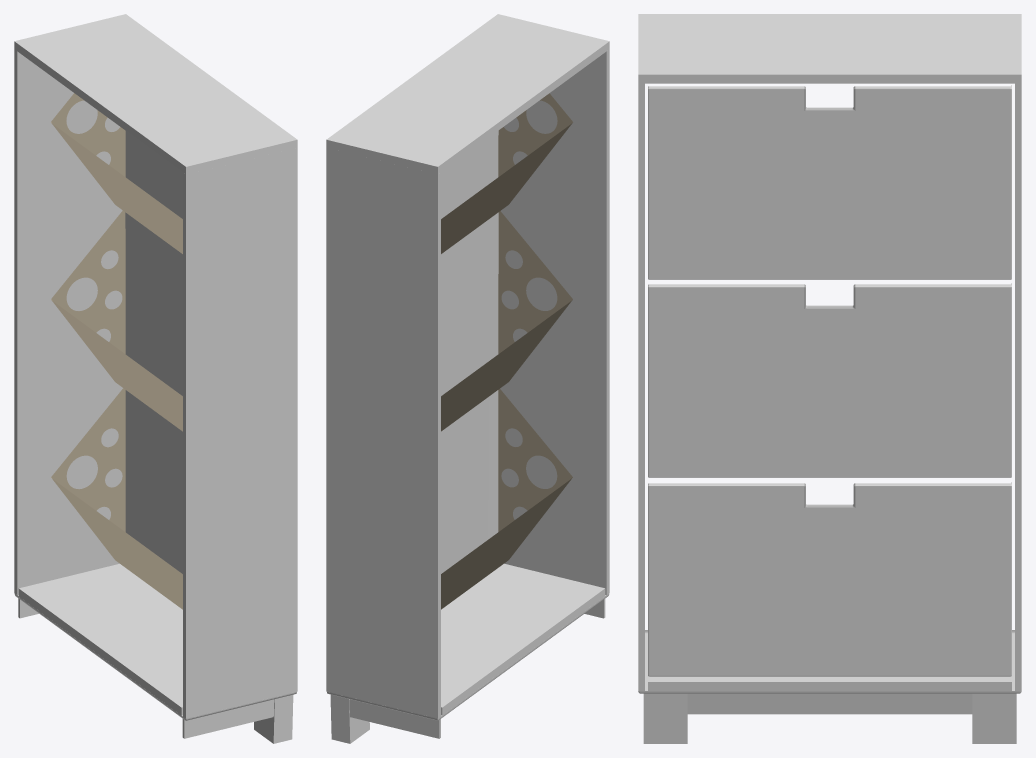
File: shoe cabinet.fbx
3 views of the same model, side by side, from view 1: azimuth 30°, elevation 25°; view 2: azimuth 150°, elevation 25°; view 3: azimuth 270°, elevation 25° (orthographic). The views are drawn at different scales.
Parts seen in each view (by area): view 1: Cube_Cube.001, Cube.005_Cube.013, Cube.004_Cube.012, Cube.002_Cube.010; view 2: Cube_Cube.001, Cube.005_Cube.013, Cube.004_Cube.012, Cube.002_Cube.010; view 3: Cube.002_Cube.010, Cube.004_Cube.012, Cube.005_Cube.013, Cube_Cube.001.
Part boxes in pixels (x1=…): Cube_Cube.001: x1=14, y1=14, x2=297, y2=743; Cube.005_Cube.013: x1=51, y1=388, x2=182, y2=609; Cube.004_Cube.012: x1=51, y1=210, x2=182, y2=431; Cube.002_Cube.010: x1=51, y1=93, x2=182, y2=253; Cube_Cube.001: x1=326, y1=14, x2=609, y2=743; Cube.005_Cube.013: x1=441, y1=389, x2=572, y2=609; Cube.004_Cube.012: x1=441, y1=211, x2=572, y2=431; Cube.002_Cube.010: x1=441, y1=93, x2=572, y2=253; Cube.002_Cube.010: x1=648, y1=85, x2=1011, y2=279; Cube.004_Cube.012: x1=648, y1=283, x2=1011, y2=477; Cube.005_Cube.013: x1=648, y1=482, x2=1011, y2=676; Cube_Cube.001: x1=638, y1=14, x2=1021, y2=743.
Bounding box in the file's own units: 30.05 × 154 × 80.01.
